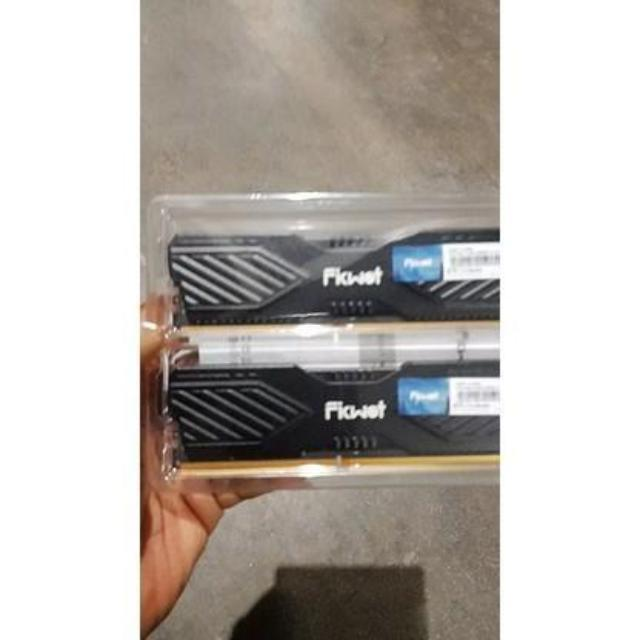RAM: (148, 359, 502, 476), (166, 226, 504, 334)
